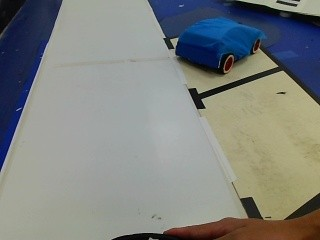car: (173, 16, 264, 76)
